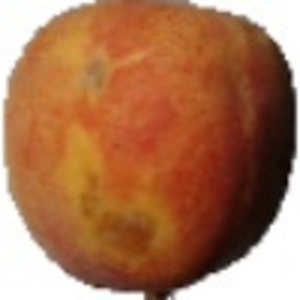pêssego: (2, 1, 298, 300)
